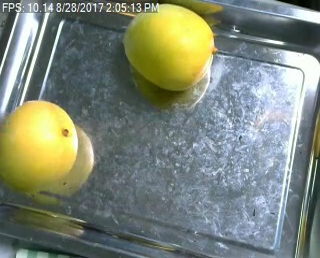Mango: (120, 2, 221, 94), (0, 97, 86, 192)
